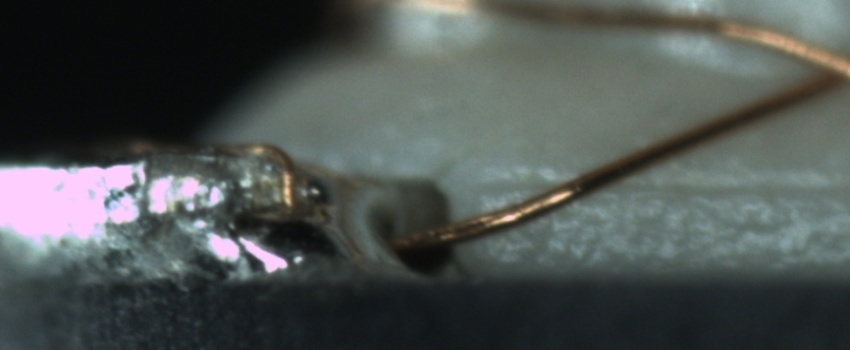CL: (776, 32, 850, 108)
DL: (484, 154, 849, 212)
TE: (217, 137, 299, 230)
